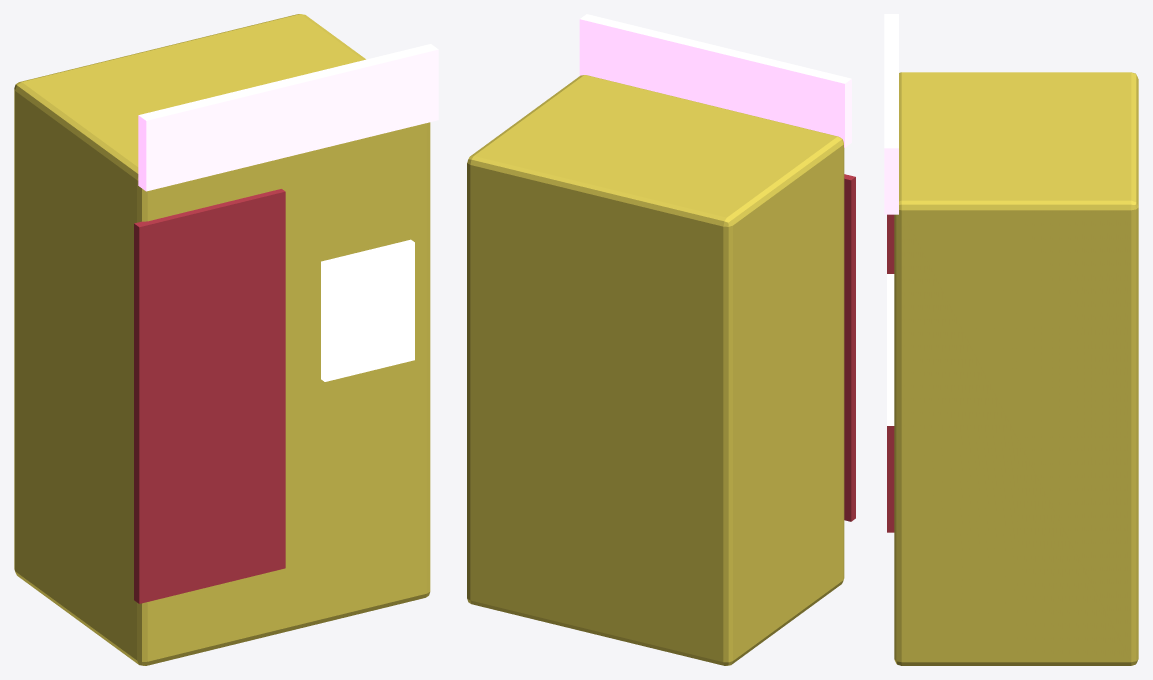
The model's file is photo_booth.glb.
3 renders of one model, left to right at view 1: azimuth 30°, elevation 25°; view 2: azimuth 150°, elevation 25°; view 3: azimuth 270°, elevation 25°, orthographic. The views are drawn at different scales.
Parts seen in each view (by area): view 1: photo_booth; view 2: photo_booth; view 3: photo_booth.
Boxes of the visible parts, x1,y1,x2,y2 form: photo_booth: (14,14,438,665); photo_booth: (467,14,855,665); photo_booth: (884,14,1138,665).
Bounding box in the file's own units: 1.32 × 2.35 × 1.04.
